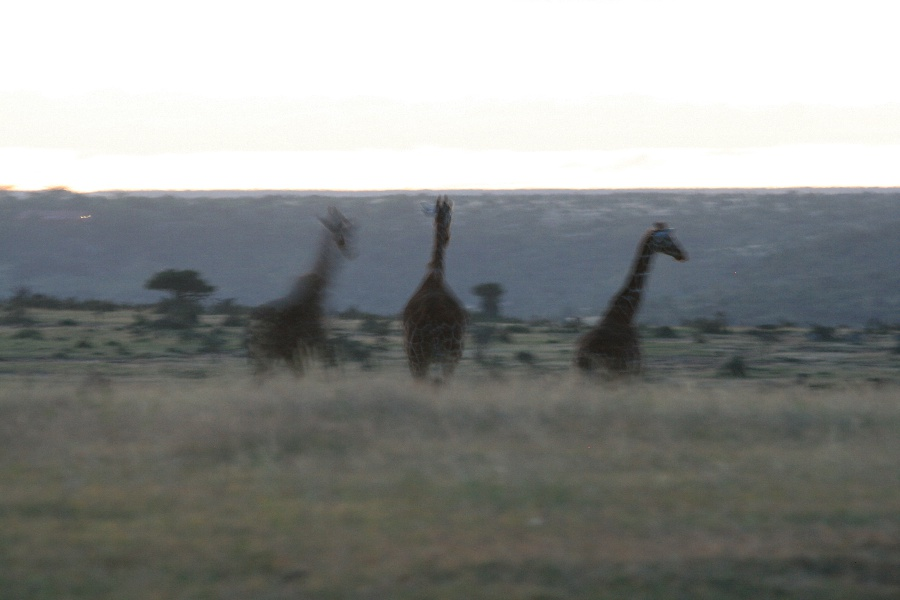giraffe: (561, 216, 692, 393), (237, 200, 360, 384), (393, 186, 475, 390)
